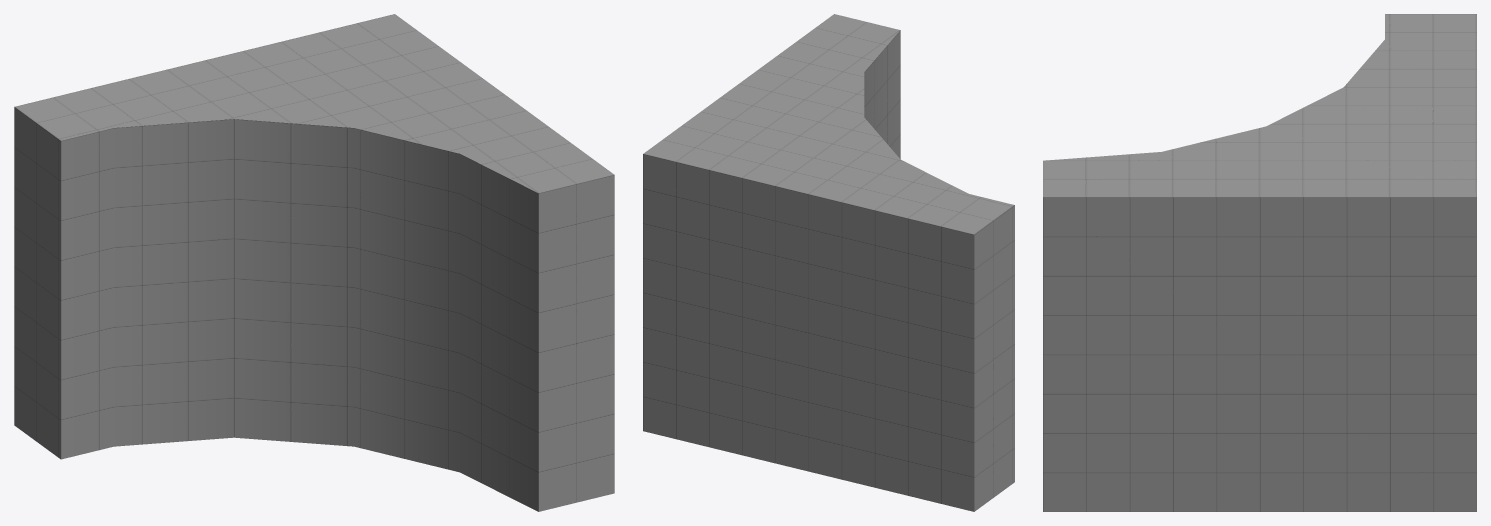
The model's file is arch8-10r8h.FBX.
3 views of the same model, side by side, from view 1: azimuth 30°, elevation 25°; view 2: azimuth 150°, elevation 25°; view 3: azimuth 270°, elevation 25° (orthographic). The views are drawn at different scales.
Parts seen in each view (by area): view 1: Box001; view 2: Box001; view 3: Box001.
Boxes of the visible parts, x1,y1,x2,y2 form: Box001: [14, 14, 614, 511]; Box001: [643, 14, 1014, 511]; Box001: [1043, 14, 1476, 511].
Bounding box in the file's own units: 10 × 10 × 8.
